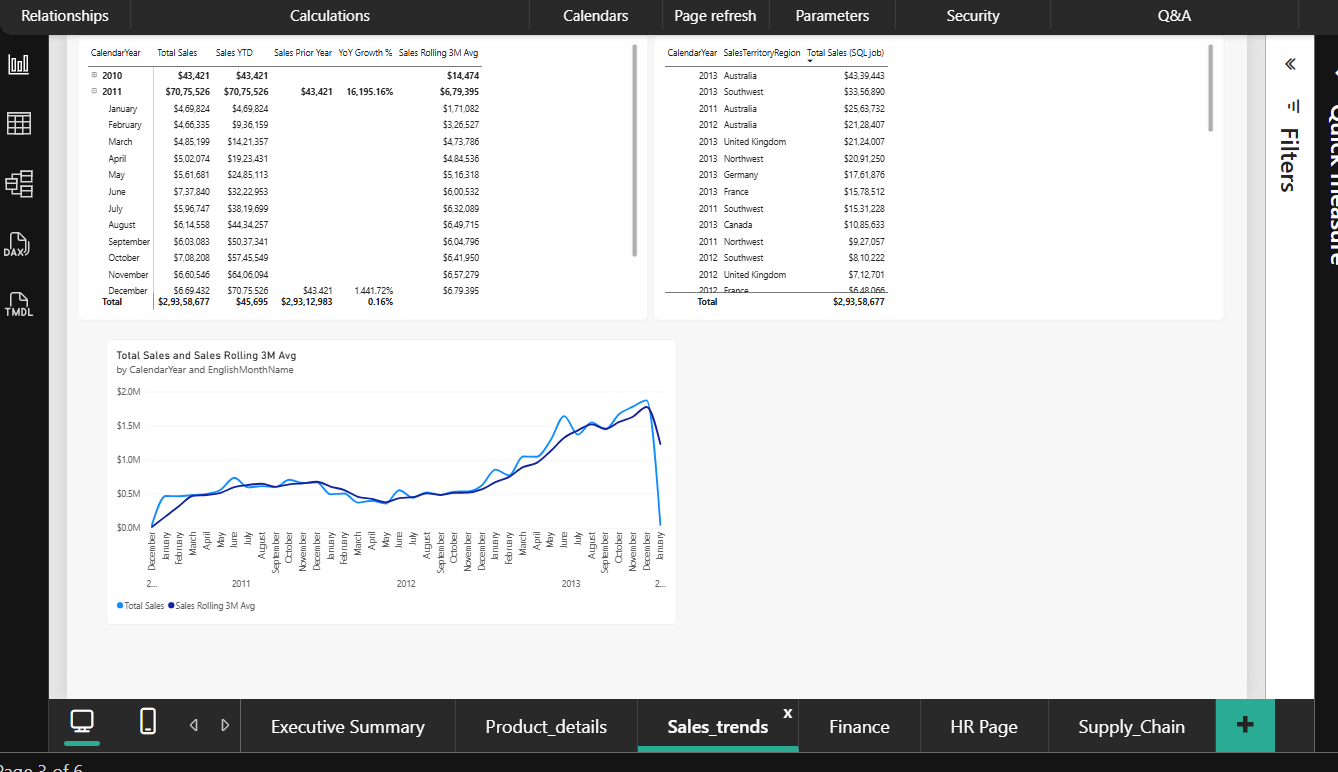

This screenshot's page, from the dashboard's own definition file:
{"tool":"powerbi","page":{"name":"Sales_trends","canvas":[1920,1080],"ordinal":2},"visuals":[{"type":"pivotTable","fields":{"Rows":["Date.CalendarYear","Date.EnglishMonthName"],"Values":["Sales.Total Sales","Sales.Sales YTD","Sales.Sales Prior Year","Sales.YoY Growth %","Sales.Sales Rolling 3M Avg"]},"box":[16,0,928,464],"z":0},{"type":"lineChart","fields":{"Category":["Date.CalendarYear","Date.EnglishMonthName"],"Y":["Sales.Total Sales","Sales.Sales Rolling 3M Avg"]},"box":[64,496,928,464],"z":1000},{"type":"tableEx","fields":{"Values":["SalesSummary.CalendarYear","SalesSummary.SalesTerritoryRegion","Sum(SalesSummary.TotalSales)"]},"box":[954,0,928,464],"z":2000}]}

Visuals, with their boxes on the page's 1920x1080 design canvas (x1, y1, x2, y2). These are canvas units, not pixel positions in the 1338x772 screenshot, which may show the page scaled, cropped or inside an application window:
pivotTable - Date.CalendarYear x Date.EnglishMonthName: (16,0,944,464)
lineChart - Date.CalendarYear x Date.EnglishMonthName: (64,496,992,960)
tableEx - SalesSummary.CalendarYear x SalesSummary.SalesTerritoryRegion: (954,0,1882,464)
